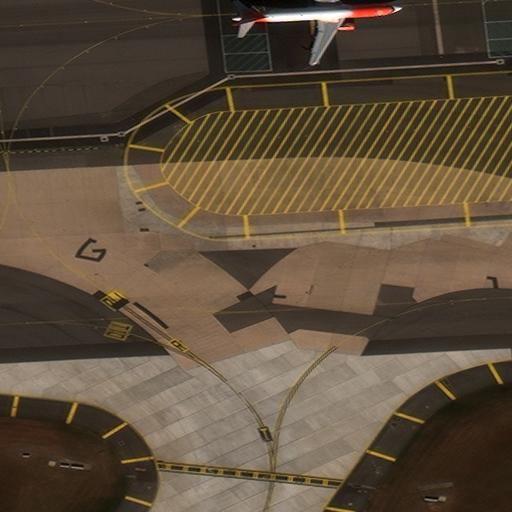Medium Civil Transport: (232, 0, 402, 64)
